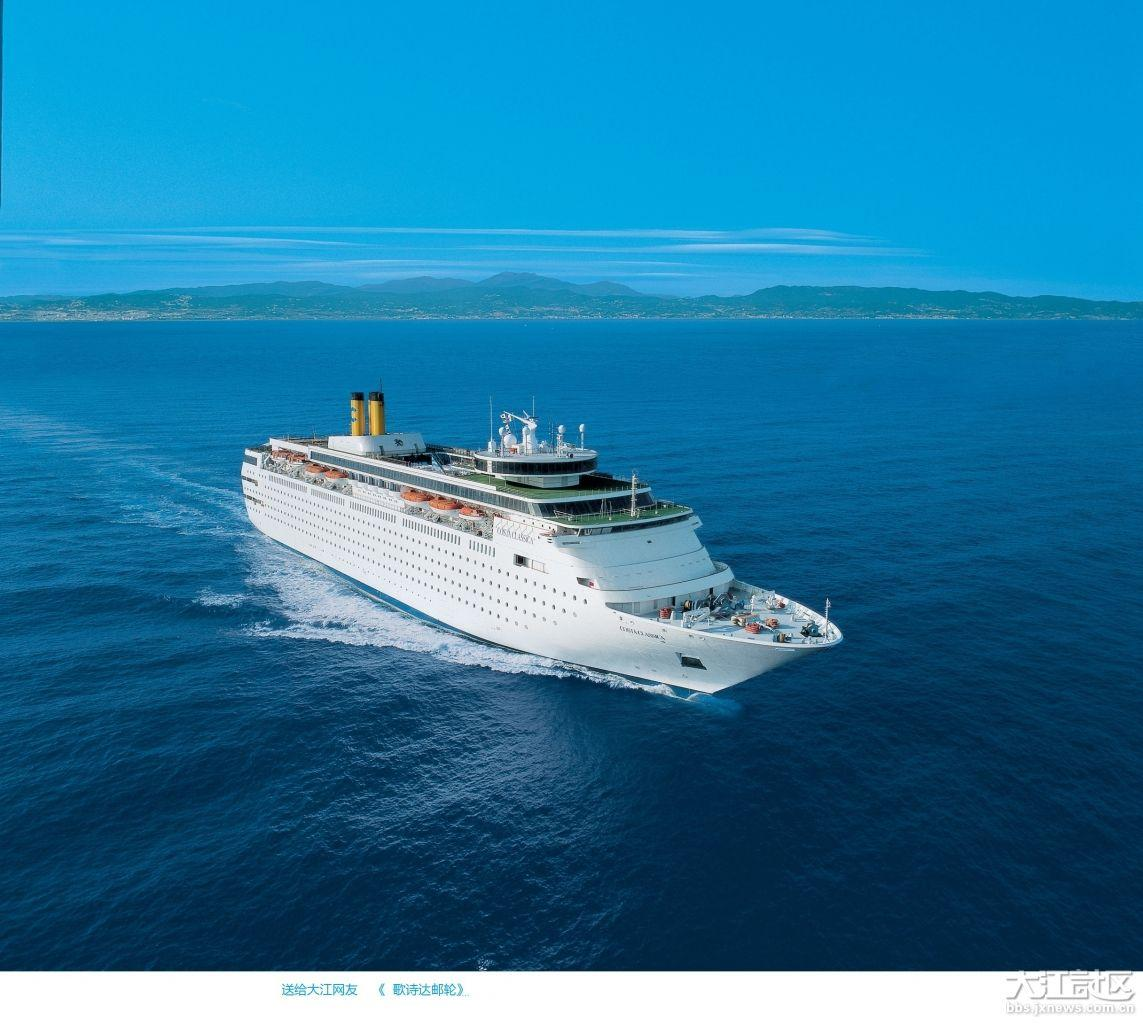youlun: (236, 379, 849, 697)
